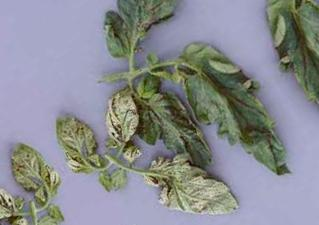Tomato leaf bacterial spot: (156, 21, 311, 206), (141, 135, 249, 225), (78, 0, 203, 65), (85, 84, 154, 155)
